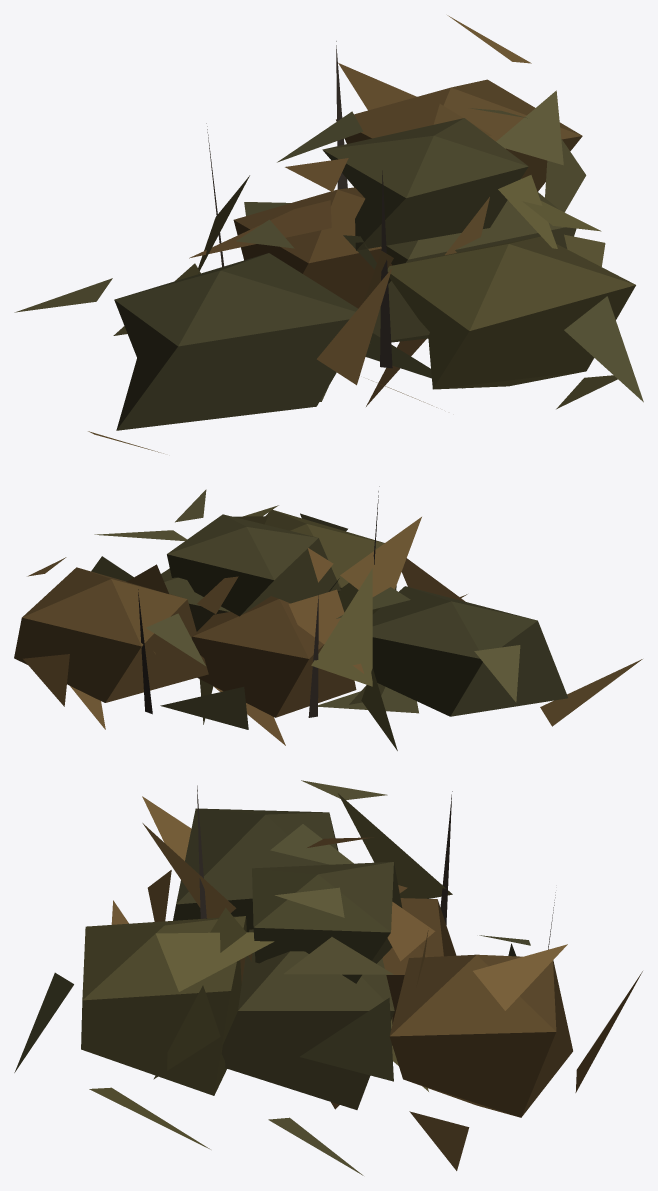
The model's file is shinnery-lite.glb.
3 renders of one model, top to bottom at view 1: azimuth 30°, elevation 25°; view 2: azimuth 150°, elevation 25°; view 3: azimuth 270°, elevation 25°, orthographic. The views are drawn at different scales.
Visible parts, largest first — view 1: shinnery-lite / foliage-core, shinnery-lite / foliage, shinnery-lite / wood; view 2: shinnery-lite / foliage-core, shinnery-lite / foliage, shinnery-lite / wood; view 3: shinnery-lite / foliage-core, shinnery-lite / foliage, shinnery-lite / wood.
Part boxes in pixels (x1,y1,x2,y2): shinnery-lite / foliage-core: [114, 79, 635, 430]; shinnery-lite / foliage: [14, 15, 643, 453]; shinnery-lite / wood: [206, 41, 392, 368]; shinnery-lite / foliage-core: [14, 509, 567, 717]; shinnery-lite / foliage: [23, 489, 642, 750]; shinnery-lite / wood: [138, 486, 379, 717]; shinnery-lite / foliage-core: [81, 808, 572, 1117]; shinnery-lite / foliage: [14, 780, 642, 1175]; shinnery-lite / wood: [197, 785, 555, 949].
Size of the model in its own units: 2.45 by 1.13 by 2.13.
